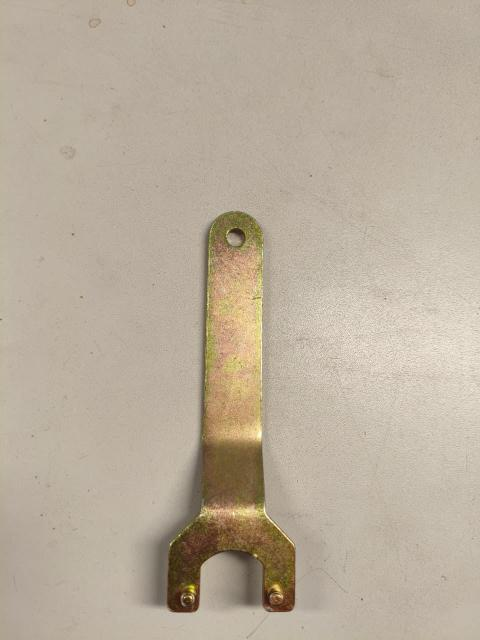Metal: (162, 203, 302, 617)
